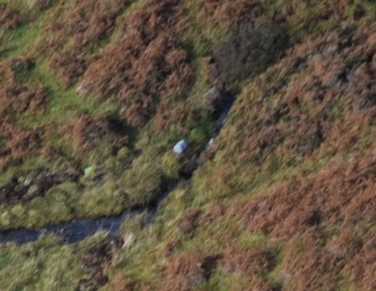white_in_green: (163, 130, 196, 160)
